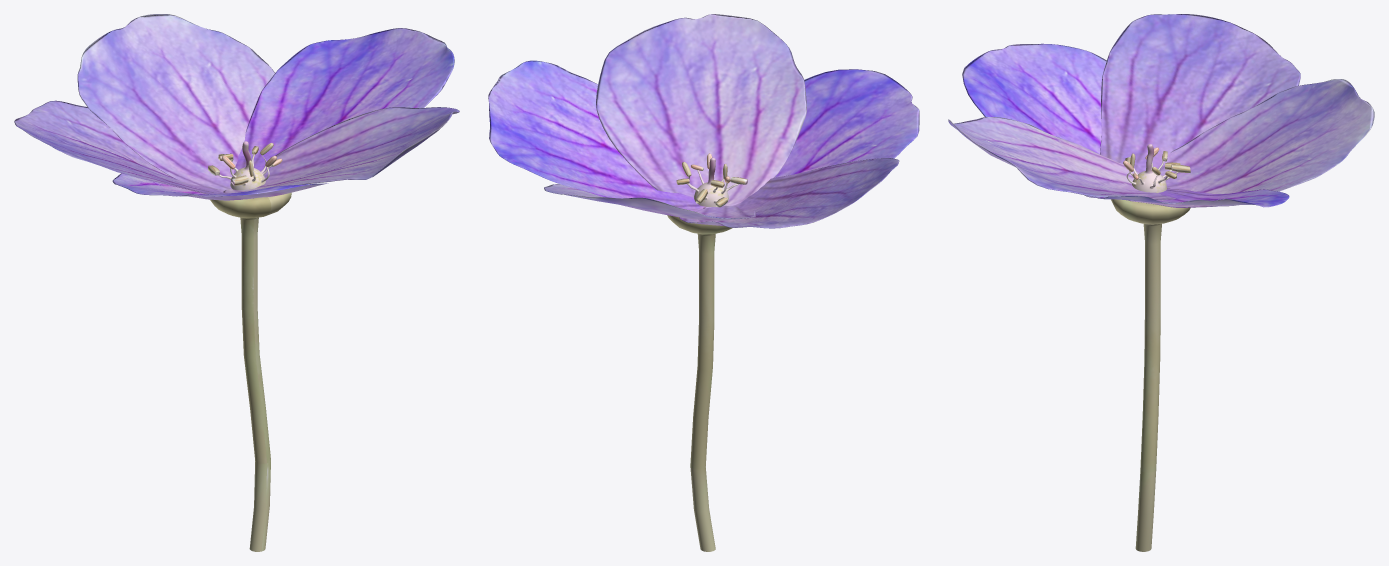
The picture shows the model from 3 angles, left to right: view 1: azimuth 30°, elevation 25°; view 2: azimuth 150°, elevation 25°; view 3: azimuth 270°, elevation 25°; orthographic projection. The views are drawn at different scales.
Visible parts, largest first — view 1: polySurface30.001; view 2: polySurface30.001; view 3: polySurface30.001.
Part boxes in pixels (left/top/right/bottom): polySurface30.001: left=14, top=14, right=459, bottom=551; polySurface30.001: left=488, top=14, right=919, bottom=551; polySurface30.001: left=948, top=14, right=1374, bottom=551.
Size of the model in its own units: 0.2973 by 0.327 by 0.2775.
Materials: 1 (1 with a texture image).
